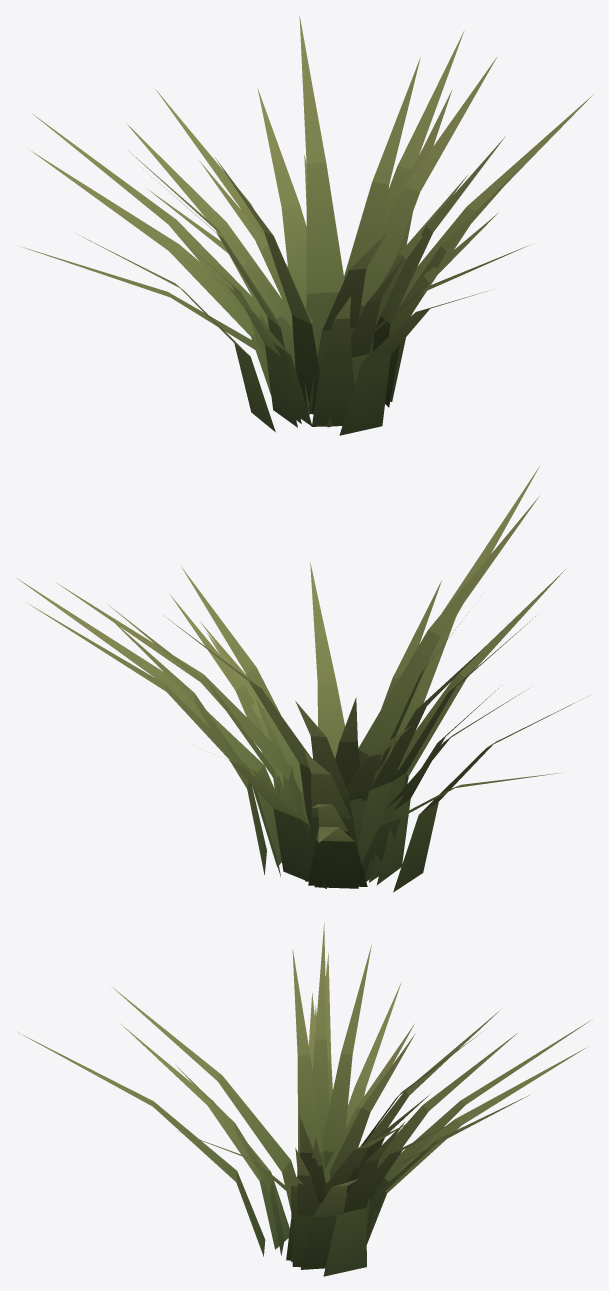
The model's file is grass_green_02.glb.
3 renders of one model, top to bottom at view 1: azimuth 30°, elevation 25°; view 2: azimuth 150°, elevation 25°; view 3: azimuth 270°, elevation 25°, orthographic. The views are drawn at different scales.
Parts seen in each view (by area): view 1: grass_green_02; view 2: grass_green_02; view 3: grass_green_02.
Part boxes in pixels (x1,y1,x2,y2): grass_green_02: (20, 16, 593, 435); grass_green_02: (17, 466, 589, 892); grass_green_02: (16, 923, 592, 1276).
Size of the model in its own units: 1.01 by 0.5221 by 1.09.
